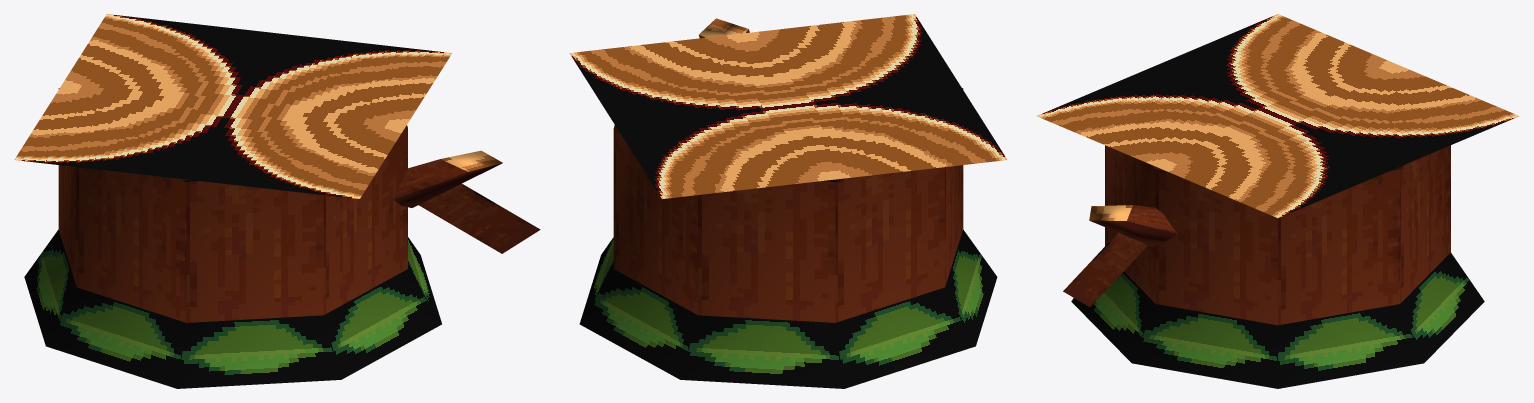
The picture shows the model from 3 angles, left to right: view 1: azimuth 30°, elevation 25°; view 2: azimuth 150°, elevation 25°; view 3: azimuth 270°, elevation 25°; orthographic projection. The views are drawn at different scales.
Visible parts, largest first — view 1: 3182IMFY06_04; view 2: 3182IMFY06_04; view 3: 3182IMFY06_04.
Part boxes in pixels (x1=…): 3182IMFY06_04: x1=14, y1=14, x2=540, y2=388; 3182IMFY06_04: x1=569, y1=14, x2=1007, y2=388; 3182IMFY06_04: x1=1036, y1=14, x2=1519, y2=388.
Size of the model in its own units: 1.04 by 0.4402 by 1.04.
3 materials, 3 textured.
